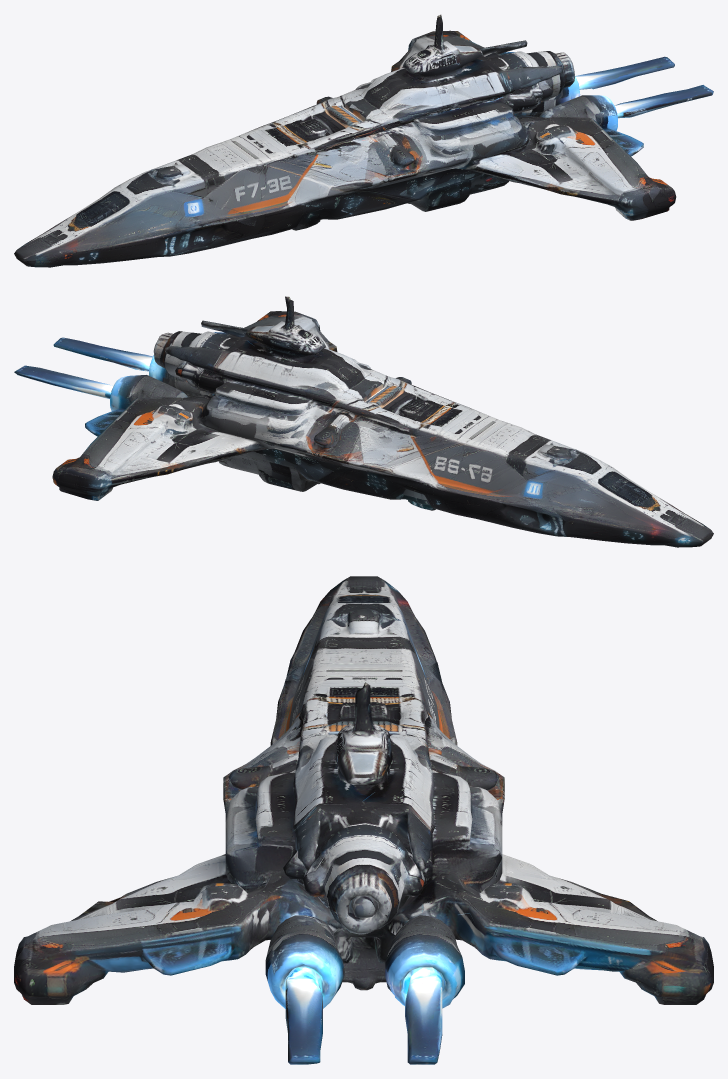
The model's file is earth-frigate-De5IX79f.glb.
3 renders of one model, top to bottom at view 1: azimuth 30°, elevation 25°; view 2: azimuth 150°, elevation 25°; view 3: azimuth 270°, elevation 25°, orthographic. The views are drawn at different scales.
Size of the model in its own units: 1.91 by 0.4853 by 1.1.
Materials: 1 (1 with a texture image).
